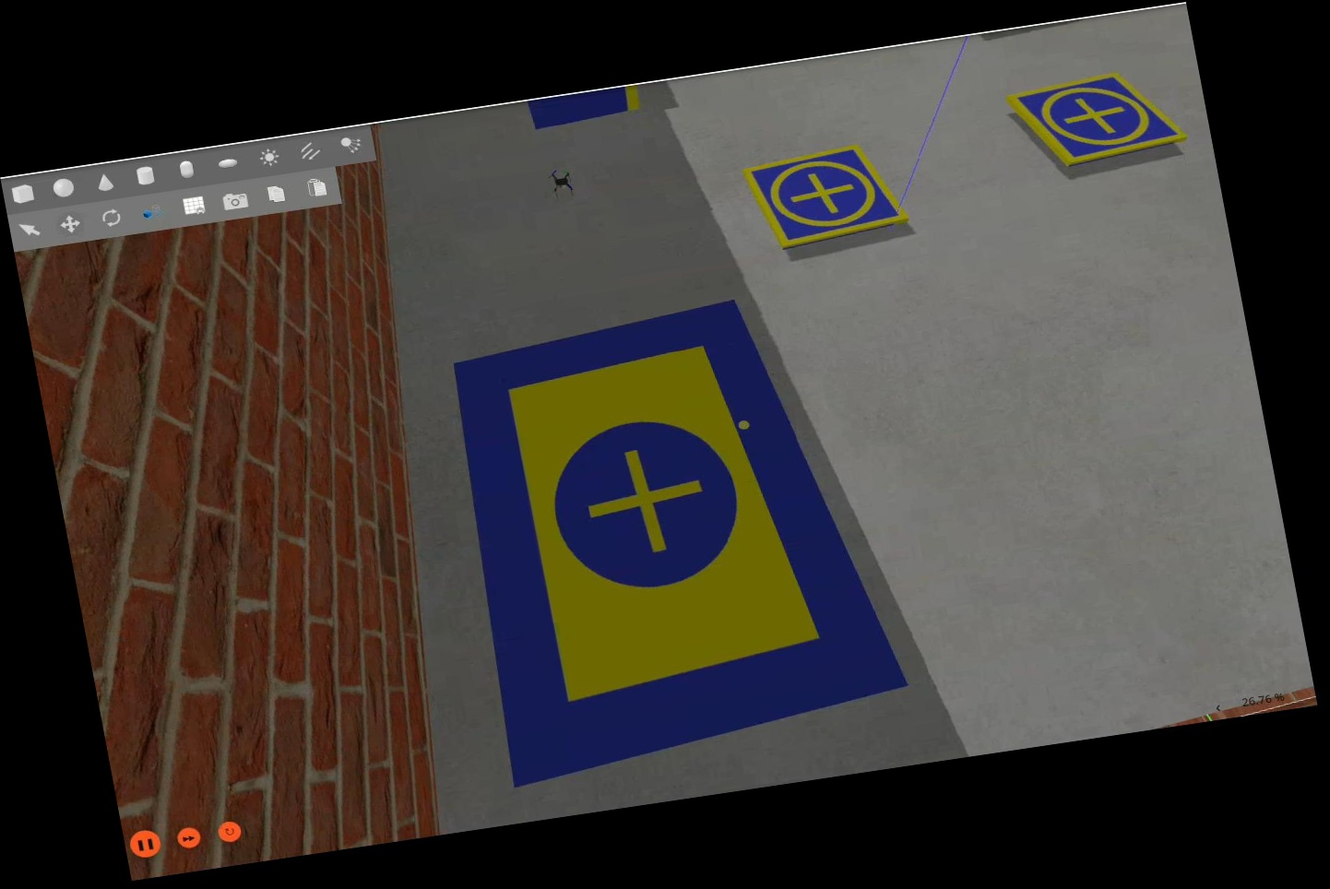large_base: (427, 287, 919, 787)
small_base: (1009, 64, 1192, 174), (742, 140, 914, 254)
